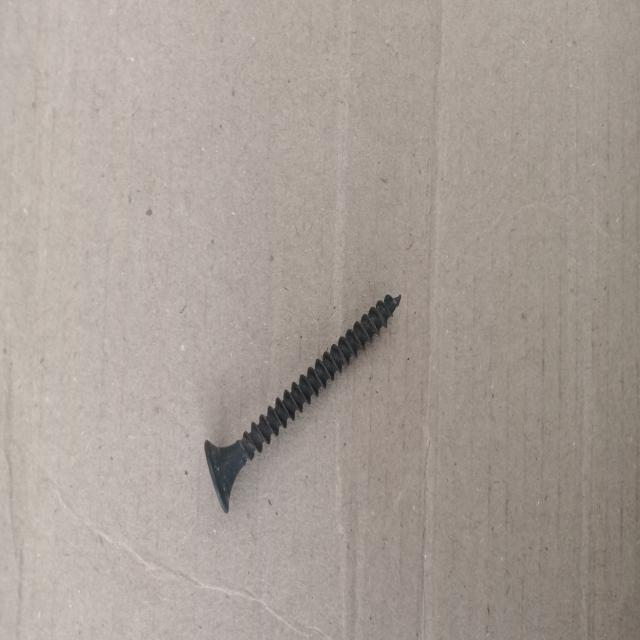screw: (204, 291, 401, 514)
